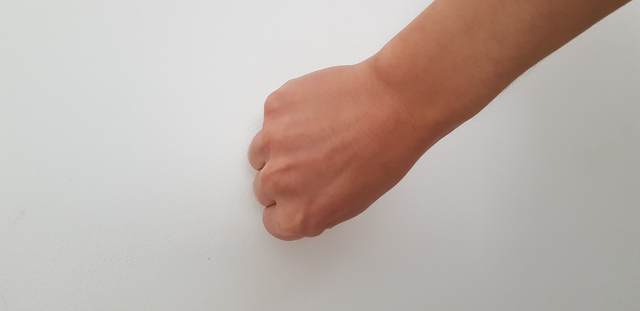Rock: (221, 47, 448, 252)
